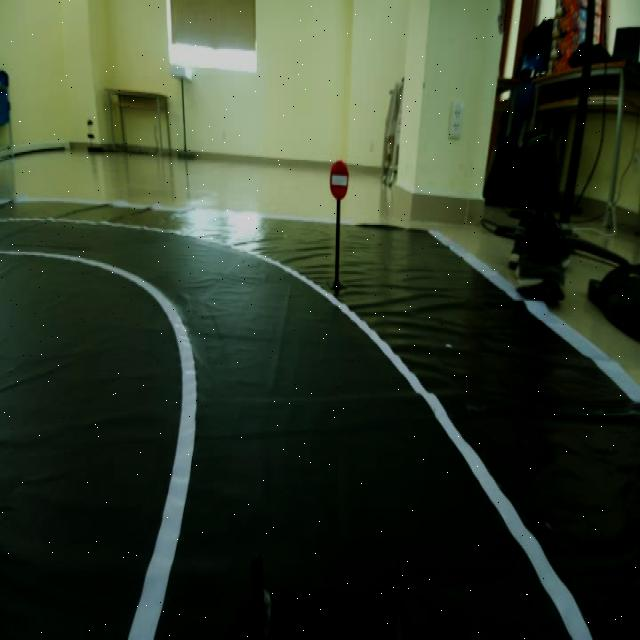no_entry: (325, 150, 354, 208)
